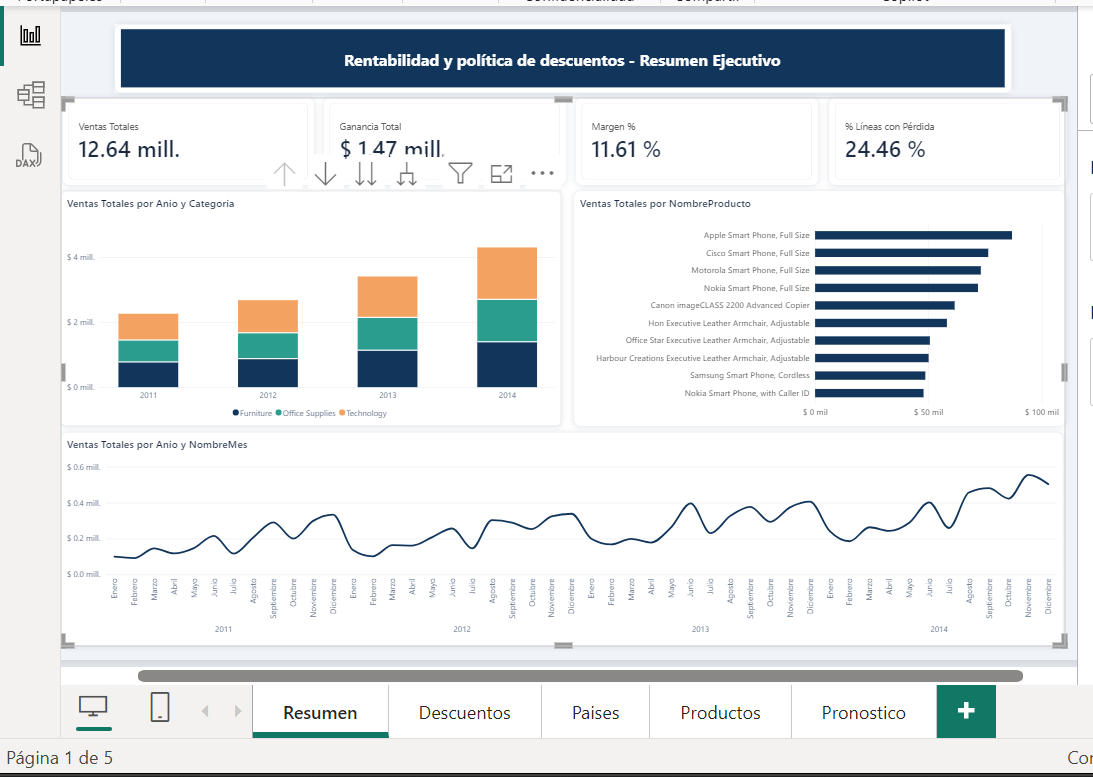

The page's visual inventory and layout, read from the dashboard file:
{"tool":"powerbi","page":{"name":"Resumen","canvas":[1920,1080],"ordinal":0},"visuals":[{"type":"cardVisual","fields":{"Data":["Fact_Ventas.Ventas Totales"]},"box":[24.8,19,401.2,192.6],"z":0},{"type":"cardVisual","fields":{"Data":["Fact_Ventas.Ganancia Total"]},"box":[446.9,19,401.2,192.6],"z":1000},{"type":"cardVisual","fields":{"Data":["Fact_Ventas.Margen %"]},"box":[869.1,19,401.2,192.6],"z":2000},{"type":"cardVisual","fields":{"Data":["Fact_Ventas.% Líneas con Pérdida"]},"box":[1291.2,19,401.2,192.6],"z":3000},{"type":"columnChart","fields":{"Category":["Dim_Tiempo.jerarquia tiempo.Anio","Dim_Tiempo.jerarquia tiempo.Trimestre","Dim_Tiempo.jerarquia tiempo.NombreMes","Dim_Tiempo.jerarquia tiempo.Fecha"],"Series":["Dim_Producto.Categoria"],"Y":["Fact_Ventas.Ventas Totales"]},"box":[319.5,236.4,528.1,366.2],"z":4000},{"type":"clusteredBarChart","fields":{"Category":["Dim_Producto.NombreProducto"],"Y":["Fact_Ventas.Ventas Totales"]},"box":[869.5,236.4,528.1,366.2],"z":5000},{"type":"lineChart","fields":{"Category":["Dim_Tiempo.Anio","Dim_Tiempo.NombreMes"],"Y":["Fact_Ventas.Ventas Totales"]},"box":[284.5,625.9,1149.7,404.1],"z":6000}]}

Visuals, with their boxes on the page's 1920x1080 design canvas (x1, y1, x2, y2). These are canvas units, not pixel positions in the 1093x777 screenshot, which may show the page scaled, cropped or inside an application window:
cardVisual - Fact_Ventas.Ventas Totales: box=[25, 19, 426, 212]
cardVisual - Fact_Ventas.Ganancia Total: box=[447, 19, 848, 212]
cardVisual - Fact_Ventas.Margen %: box=[869, 19, 1270, 212]
cardVisual - Fact_Ventas.% Líneas con Pérdida: box=[1291, 19, 1692, 212]
columnChart - Dim_Tiempo.jerarquia tiempo.Anio x Dim_Tiempo.jerarquia tiempo.Trimestre: box=[320, 236, 848, 603]
clusteredBarChart - Dim_Producto.NombreProducto x Fact_Ventas.Ventas Totales: box=[870, 236, 1398, 603]
lineChart - Dim_Tiempo.Anio x Dim_Tiempo.NombreMes: box=[284, 626, 1434, 1030]
